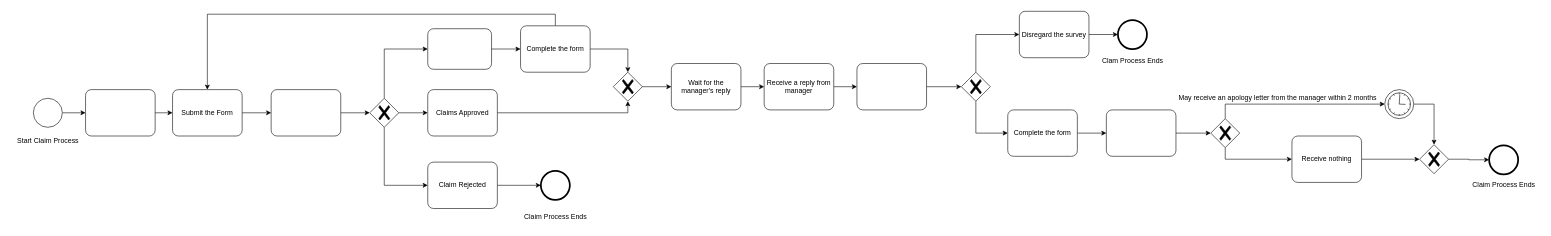
Image size: 1551x236. Some labels were removed from this diagram. The shapes that lost their labels are listed below. From the top down, each one's box as (x1, y1, x2, y2) in pixels, then its label:
(427, 28, 492, 69): Receive a request to complete the form
(856, 63, 927, 110): Receive a Satisfaction Survey
(85, 89, 155, 136): Fill the Claim Form
(271, 89, 341, 136): Wait for a response
(1106, 109, 1176, 156): Send the form
